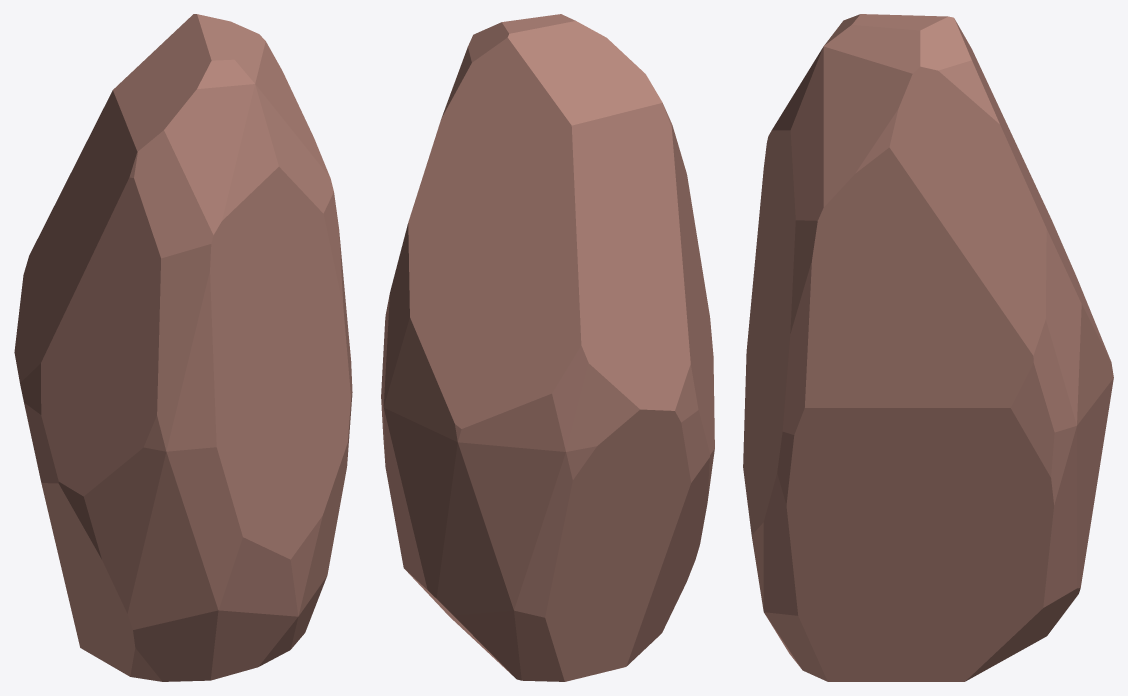
Rendered from Mesa_Rock_Big_02.fbx.
3 renders of one model, left to right at view 1: azimuth 30°, elevation 25°; view 2: azimuth 150°, elevation 25°; view 3: azimuth 270°, elevation 25°, orthographic. The views are drawn at different scales.
Visible parts, largest first — view 1: Icosphere.006; view 2: Icosphere.006; view 3: Icosphere.006.
Part boxes in pixels (x1,y1,x2,y2): Icosphere.006: [14, 14, 352, 681]; Icosphere.006: [381, 14, 714, 681]; Icosphere.006: [743, 14, 1113, 681].
Bounding box in the file's own units: 168 × 373 × 192.
